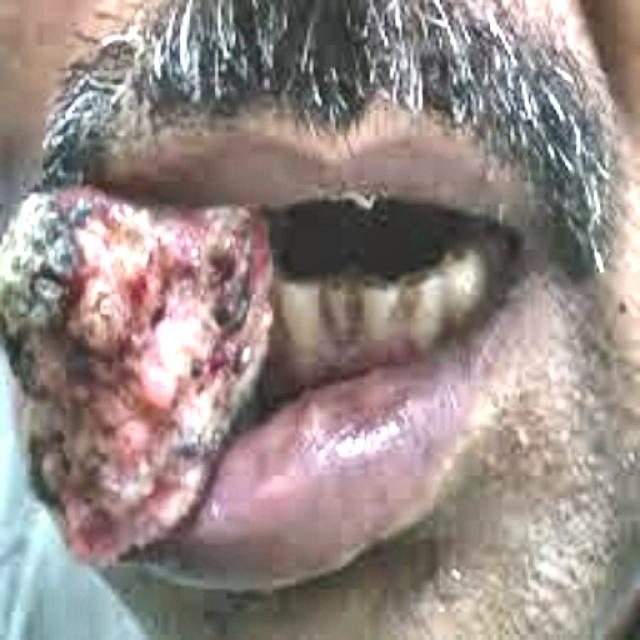cancer-detection: (0, 187, 274, 573)
processing_area: (0, 187, 462, 579)
